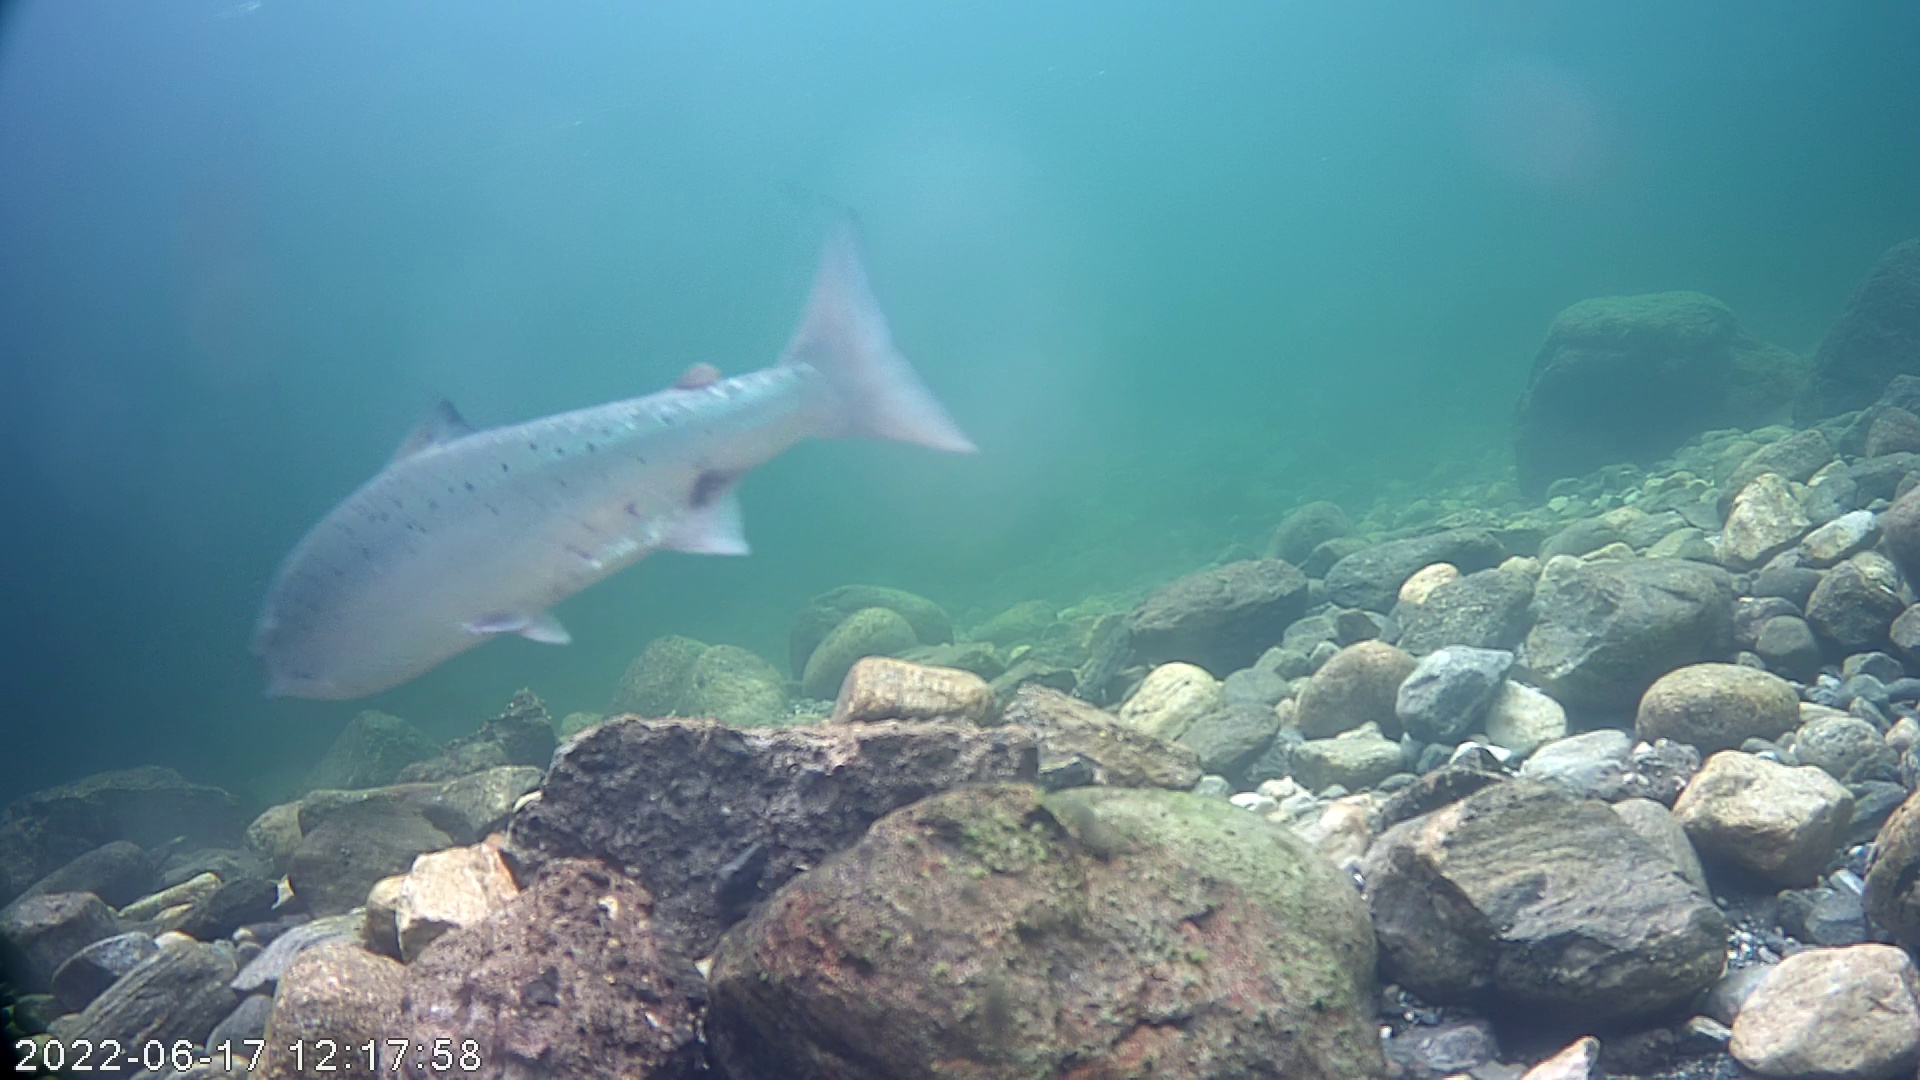salmon: (247, 204, 978, 704)
